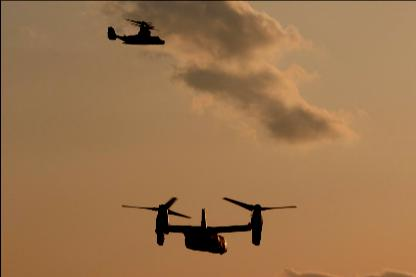Tornado: (120, 196, 296, 254), (105, 18, 164, 44)
